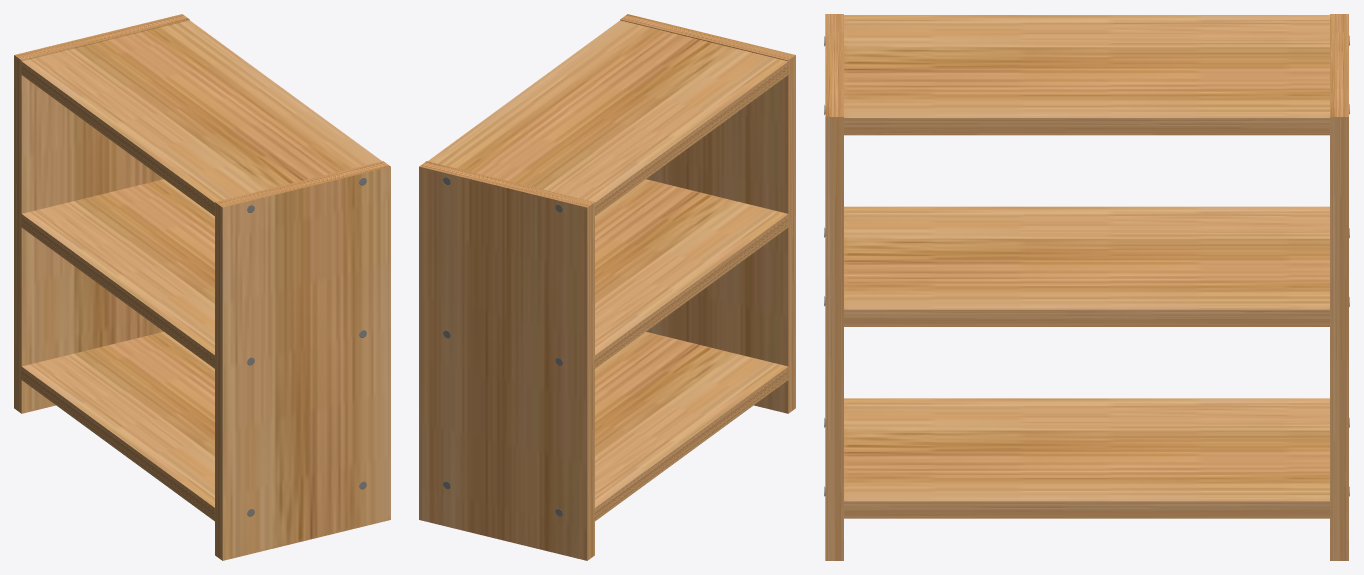
Rendered from smallShelf.fbx.
The picture shows the model from 3 angles, left to right: view 1: azimuth 30°, elevation 25°; view 2: azimuth 150°, elevation 25°; view 3: azimuth 270°, elevation 25°; orthographic projection. The views are drawn at different scales.
Visible parts, largest first — view 1: WoodLeft, WoodShelfTop, WoodRight, WoodShelfBottom, WoodShelfMiddle; view 2: WoodRight, WoodShelfTop, WoodLeft, WoodShelfMiddle, WoodShelfBottom; view 3: WoodShelfMiddle, WoodShelfBottom, WoodShelfTop, WoodLeft, WoodRight.
Boxes of the visible parts, box(x1,y1,x2,y2) form: WoodLeft: box(215, 161, 390, 560); WoodShelfTop: box(21, 20, 381, 215); WoodRight: box(14, 14, 189, 413); WoodShelfBottom: box(21, 332, 214, 521); WoodShelfMiddle: box(21, 179, 214, 368); WoodRight: box(419, 161, 594, 560); WoodShelfTop: box(428, 20, 788, 216); WoodLeft: box(620, 14, 795, 413); WoodShelfMiddle: box(594, 179, 788, 369); WoodShelfBottom: box(594, 332, 788, 521); WoodShelfMiddle: box(844, 206, 1331, 326); WoodShelfBottom: box(844, 398, 1331, 518); WoodShelfTop: box(844, 15, 1331, 135); WoodLeft: box(825, 14, 843, 560); WoodRight: box(1330, 14, 1348, 560).
Size of the model in its own units: 300 by 602 by 646.
